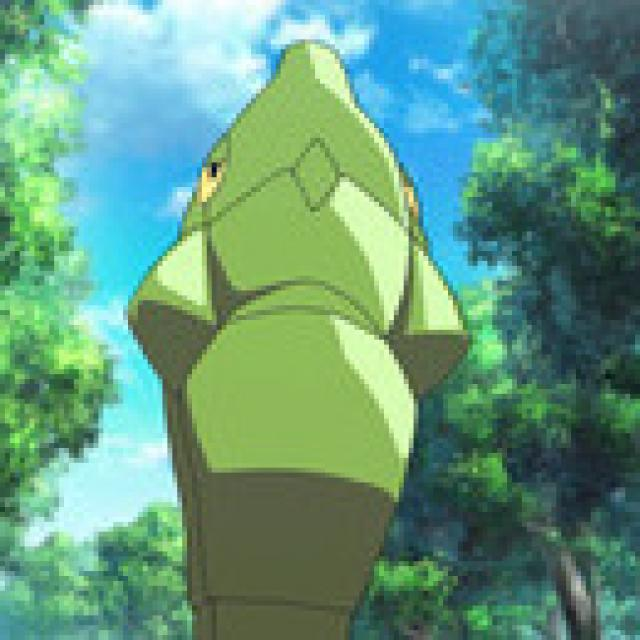Metapod: (122, 39, 468, 640)
